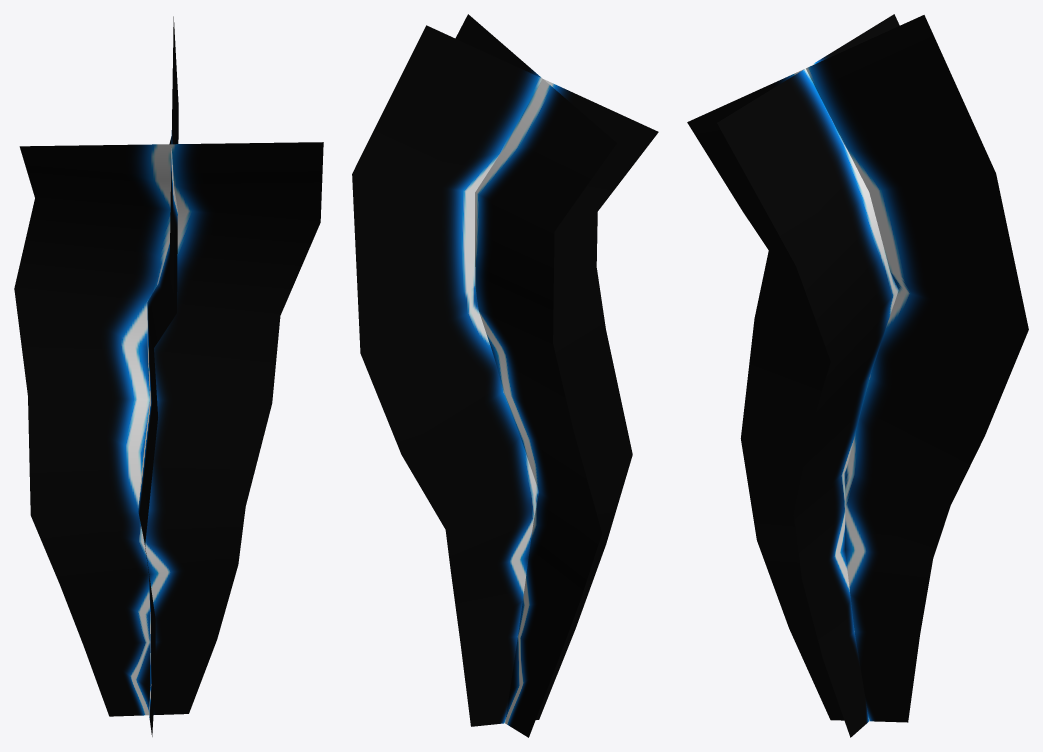
Rendered from ms_lightning03_01.fbx.
3 renders of one model, left to right at view 1: azimuth 30°, elevation 25°; view 2: azimuth 150°, elevation 25°; view 3: azimuth 270°, elevation 25°, orthographic. The views are drawn at different scales.
Visible parts, largest first — view 1: ms_lightning_03_01; view 2: ms_lightning_03_01; view 3: ms_lightning_03_01.
Part boxes in pixels (left/top/right/bottom): ms_lightning_03_01: left=14, top=16, right=323, bottom=736; ms_lightning_03_01: left=352, top=14, right=658, bottom=737; ms_lightning_03_01: left=687, top=14, right=1028, bottom=737.
Bounding box in the file's own units: 97.11 × 245 × 103.
